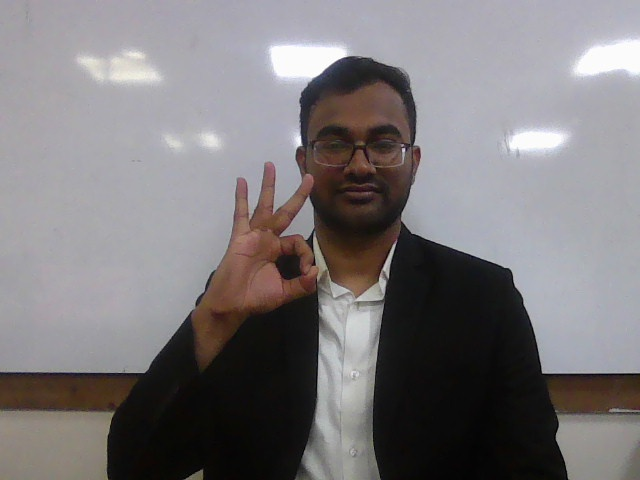Shundor: (208, 161, 319, 323)
